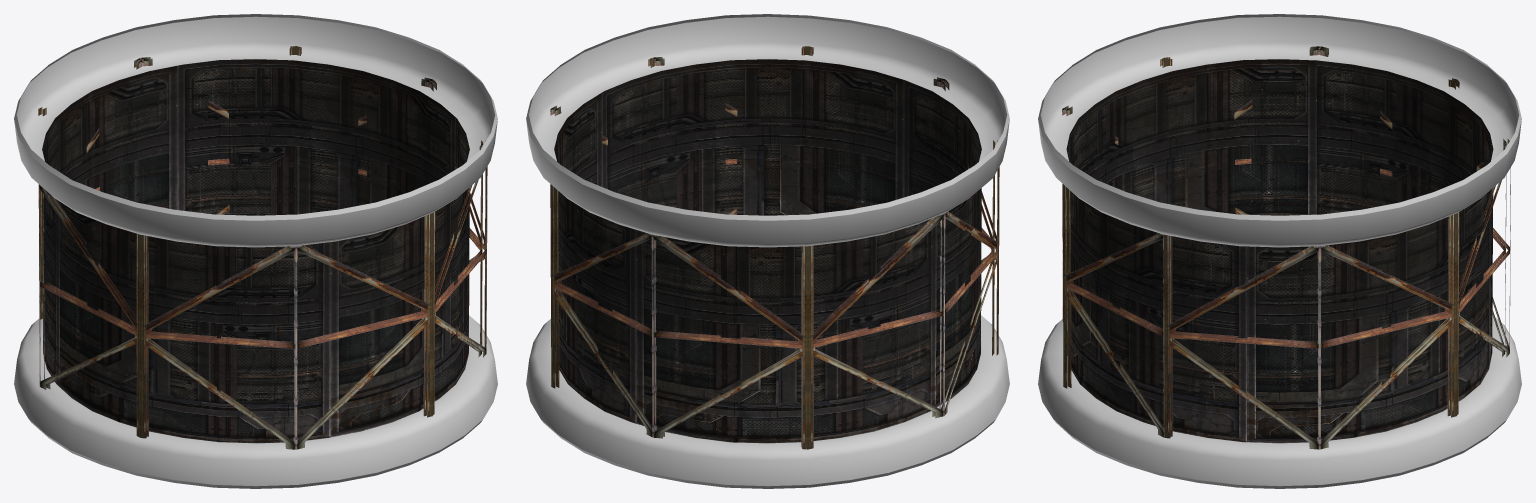
The model's file is CylTube_04.fbx.
3 views of the same model, side by side, from view 1: azimuth 30°, elevation 25°; view 2: azimuth 150°, elevation 25°; view 3: azimuth 270°, elevation 25° (orthographic).
Visible parts, largest first — view 1: CylTube, girder (×2); view 2: CylTube, girder (×2); view 3: CylTube, girder (×2).
Boxes of the visible parts, x1=… form: CylTube: x1=14, y1=14, x2=497, y2=488; girder (×2): x1=38, y1=46, x2=487, y2=449; CylTube: x1=526, y1=14, x2=1009, y2=488; girder (×2): x1=550, y1=46, x2=999, y2=449; CylTube: x1=1038, y1=14, x2=1521, y2=488; girder (×2): x1=1062, y1=46, x2=1510, y2=449.
Size of the model in its own units: 801 by 500 by 803.
